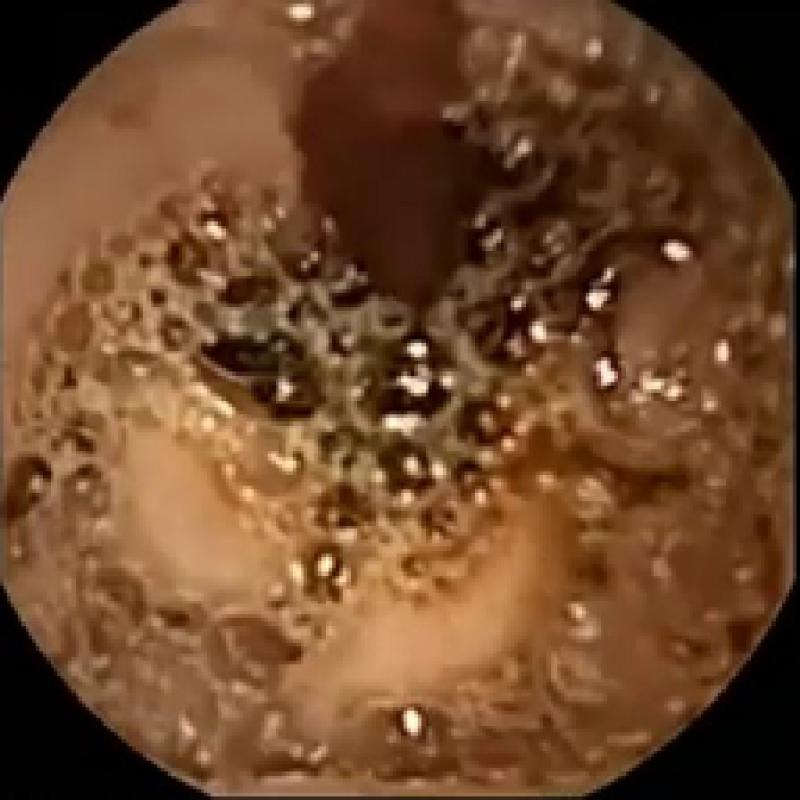bleeding: (229, 147, 664, 457)
